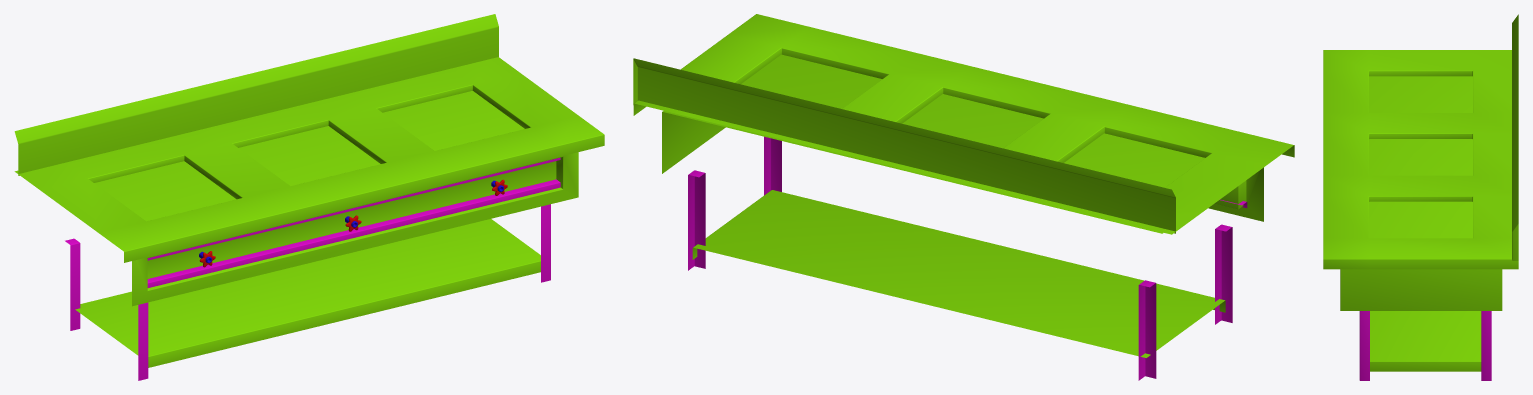
The model's file is countertop_3.fbx.
3 views of the same model, side by side, from view 1: azimuth 30°, elevation 25°; view 2: azimuth 150°, elevation 25°; view 3: azimuth 270°, elevation 25° (orthographic). The views are drawn at different scales.
Visible parts, largest first — view 1: countertop_3.001; view 2: countertop_3.001; view 3: countertop_3.001.
Part boxes in pixels (x1,y1,x2,y2): countertop_3.001: [14, 14, 604, 380]; countertop_3.001: [633, 14, 1294, 380]; countertop_3.001: [1323, 14, 1518, 380].
Size of the model in its own units: 36.86 by 14.55 by 14.13.
